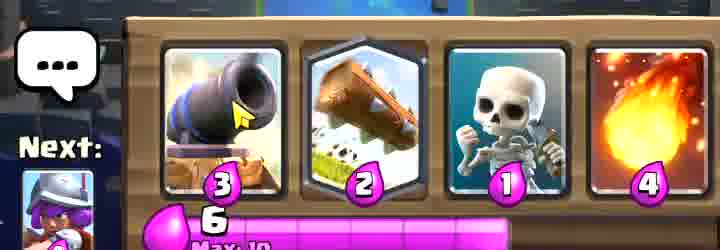cannon: (163, 53, 254, 188)
fireball: (595, 46, 710, 195)
log: (310, 44, 424, 191)
musketeer: (24, 171, 93, 250)
skeleton: (450, 51, 566, 204)
